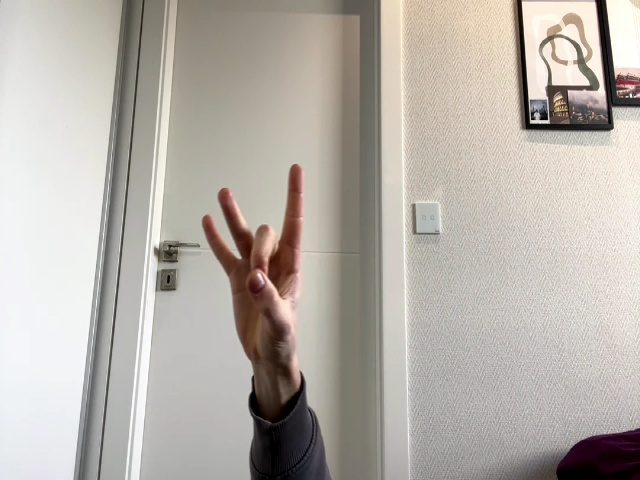G: (203, 165, 307, 347)
